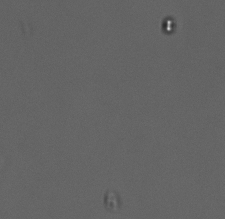Dead Cell: (103, 192, 121, 210)
Living Cell: (160, 17, 177, 34)
